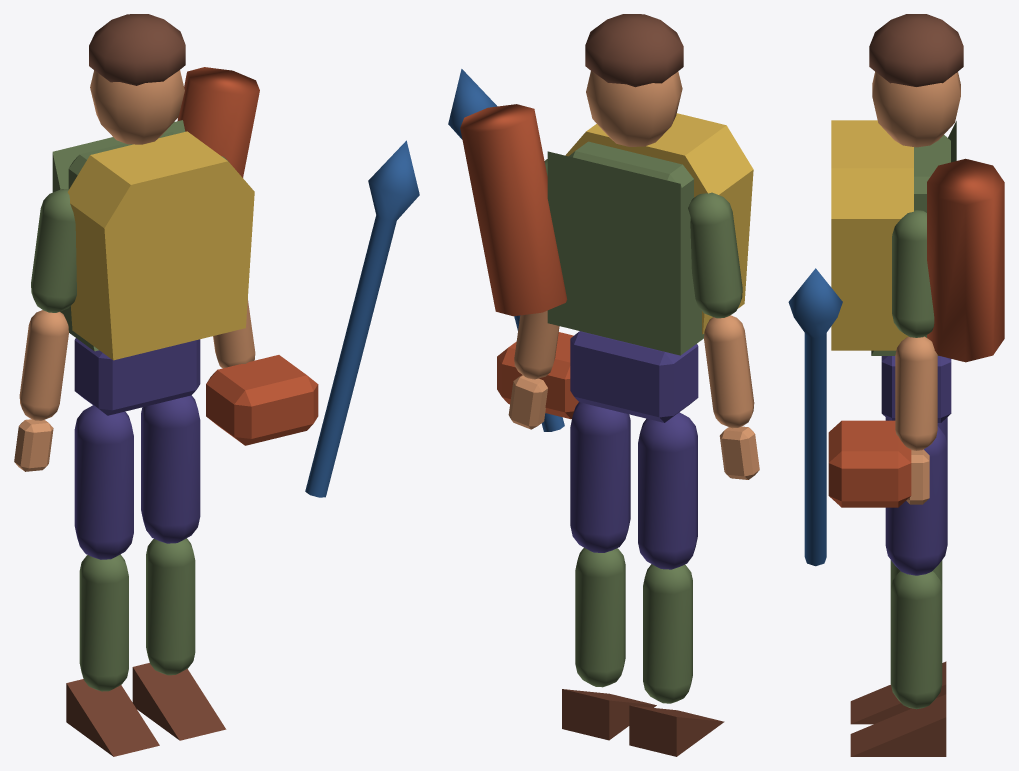
Rendered from adventurer.rustic.glb.
The picture shows the model from 3 angles, left to right: view 1: azimuth 30°, elevation 25°; view 2: azimuth 150°, elevation 25°; view 3: azimuth 270°, elevation 25°; orthographic projection.
Parts seen in each view (by area): view 1: accessory.body, accessory.main-hand, thigh.left, thigh.right, accessory.waist, pelvis, shin.left, shin.right, accessory.back, hair, head, upper-arm.left (+6 smaller); view 2: tunic, accessory.back, pelvis, thigh.left, thigh.right, accessory.body, shin.right, shin.left, hair, upper-arm.left, head, forearm.left (+8 smaller); view 3: accessory.body, accessory.back, accessory.main-hand, accessory.waist, shin.right, hair, thigh.right, head, forearm.right, upper-arm.right, foot.right, pelvis (+4 smaller).
Boxes of the visible parts, x1=… form: accessory.body: x1=67, y1=131, x2=254, y2=360; accessory.main-hand: x1=305, y1=140, x2=419, y2=497; thigh.left: x1=74, y1=405, x2=133, y2=559; thigh.right: x1=141, y1=395, x2=200, y2=543; accessory.waist: x1=206, y1=355, x2=318, y2=445; pelvis: x1=74, y1=338, x2=200, y2=415; shin.left: x1=79, y1=554, x2=128, y2=691; shin.right: x1=146, y1=538, x2=195, y2=675; accessory.back: x1=177, y1=67, x2=259, y2=177; hair: x1=89, y1=14, x2=185, y2=85; head: x1=90, y1=70, x2=184, y2=144; upper-arm.left: x1=31, y1=189, x2=76, y2=312; tunic: x1=547, y1=151, x2=704, y2=355; accessory.back: x1=460, y1=104, x2=567, y2=316; pelvis: x1=570, y1=331, x2=698, y2=422; thigh.left: x1=638, y1=412, x2=697, y2=569; thigh.right: x1=570, y1=402, x2=630, y2=552; accessory.body: x1=565, y1=113, x2=753, y2=334; shin.right: x1=575, y1=547, x2=625, y2=687; shin.left: x1=643, y1=564, x2=692, y2=703; hair: x1=585, y1=14, x2=683, y2=87; upper-arm.left: x1=688, y1=192, x2=742, y2=318; head: x1=586, y1=71, x2=682, y2=146; forearm.left: x1=704, y1=315, x2=754, y2=428; accessory.body: x1=831, y1=120, x2=913, y2=350; accessory.back: x1=927, y1=158, x2=1004, y2=362; accessory.main-hand: x1=788, y1=268, x2=842, y2=566; accessory.waist: x1=828, y1=420, x2=911, y2=507; shin.right: x1=890, y1=571, x2=942, y2=709; hair: x1=869, y1=14, x2=963, y2=86; thigh.right: x1=885, y1=426, x2=947, y2=575; head: x1=872, y1=72, x2=960, y2=147; forearm.right: x1=895, y1=336, x2=937, y2=450; upper-arm.right: x1=892, y1=210, x2=934, y2=337; foot.right: x1=850, y1=694, x2=946, y2=756; pelvis: x1=881, y1=356, x2=951, y2=422.
Bounding box in the file's own units: 1.59 × 3.03 × 0.8353.
